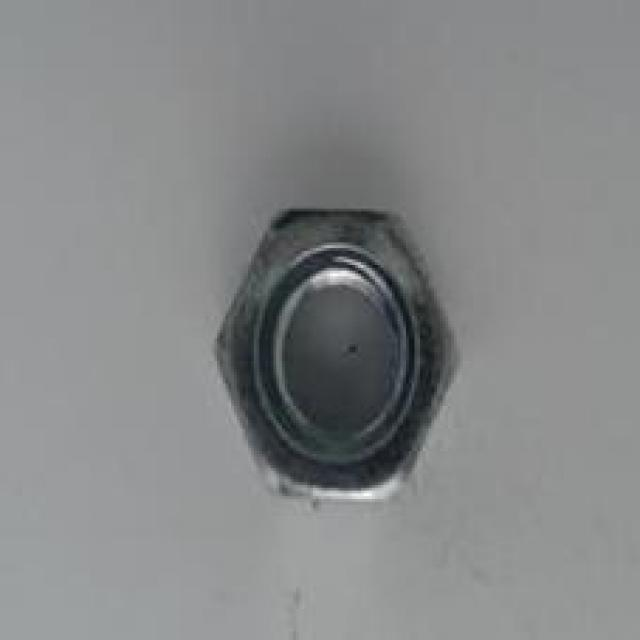ecrouOK: (208, 200, 468, 508)
